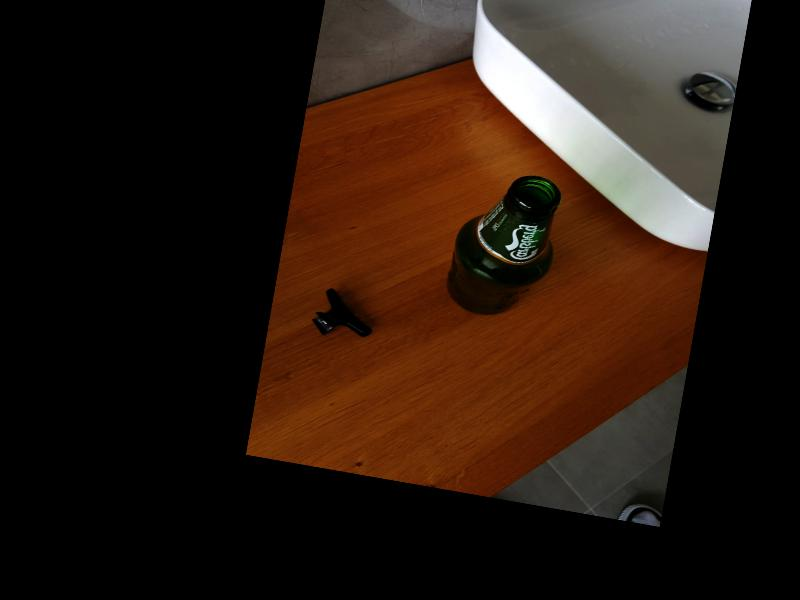Beer: (443, 165, 564, 325)
